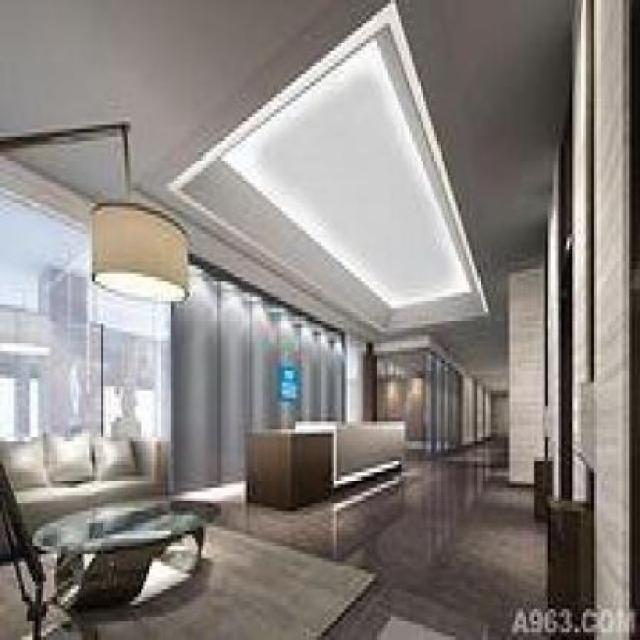frontdesk: (240, 409, 419, 525)
